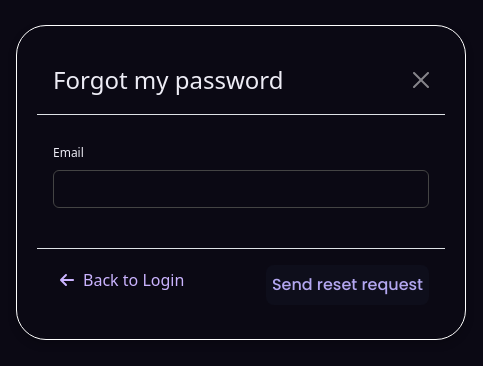
LoginForgotPasswordModal Component › shows error on invalid email submission
Type "invalid@example.com" into the field labelled "Email". click: [241, 188]
box: [53,170,429,208]
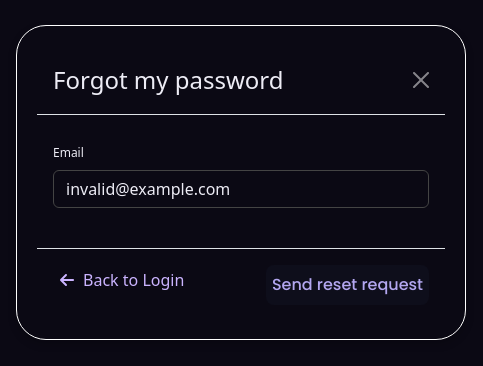
Click the button "Send reset request". click: [347, 284]
box: [266,264,429,304]
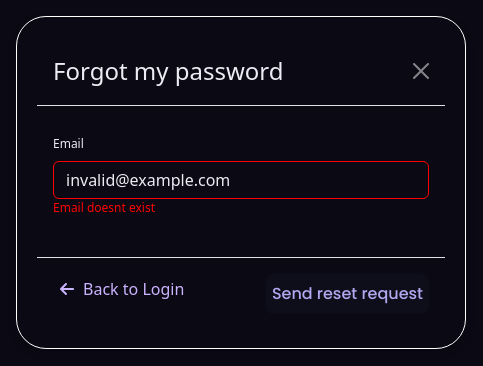
Check: the text "Email doesnt exist" is shown, box [53,198,155,216]
